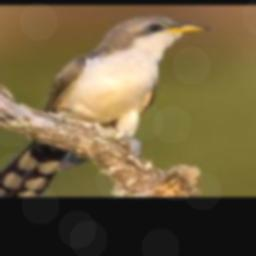Cuckoo: (0, 16, 210, 196)
